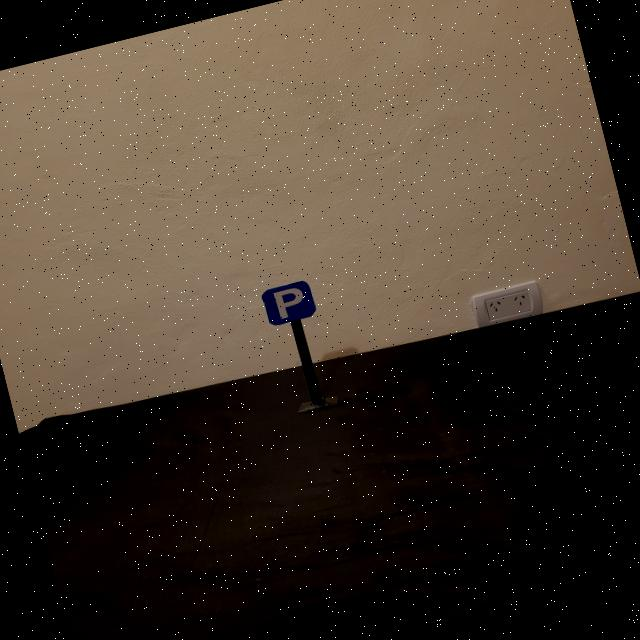parking: (260, 278, 318, 327)
